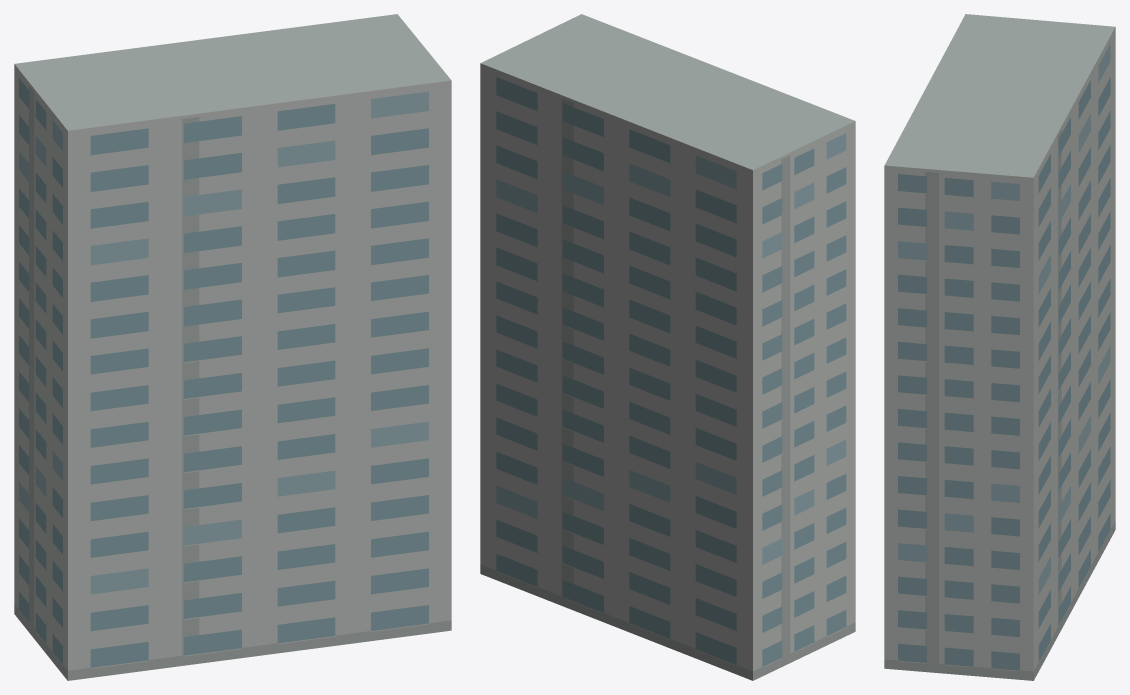
The model's file is residential-dd04eb24-d375-4aa4-893d-c1817decb28b.glb.
3 views of the same model, side by side, from view 1: azimuth 30°, elevation 25°; view 2: azimuth 150°, elevation 25°; view 3: azimuth 270°, elevation 25° (orthographic). The views are drawn at different scales.
Parts seen in each view (by area): view 1: residential-dd04eb24-d375-4aa4-893d-c1817decb28b.tmp; view 2: residential-dd04eb24-d375-4aa4-893d-c1817decb28b.tmp; view 3: residential-dd04eb24-d375-4aa4-893d-c1817decb28b.tmp.
Part boxes in pixels (x1,y1,x2,y2): residential-dd04eb24-d375-4aa4-893d-c1817decb28b.tmp: (14, 14, 451, 680); residential-dd04eb24-d375-4aa4-893d-c1817decb28b.tmp: (480, 14, 855, 680); residential-dd04eb24-d375-4aa4-893d-c1817decb28b.tmp: (884, 14, 1115, 680).
Size of the model in its own units: 28.63 by 41 by 17.08.
